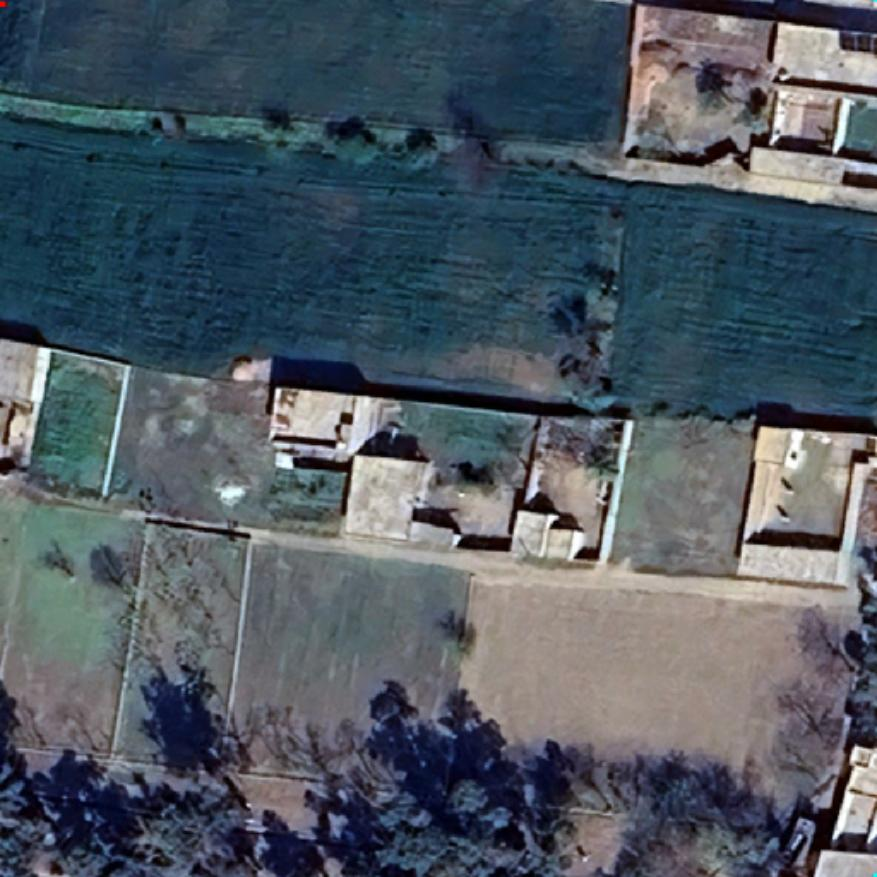Solarpanel: (835, 28, 877, 57)
